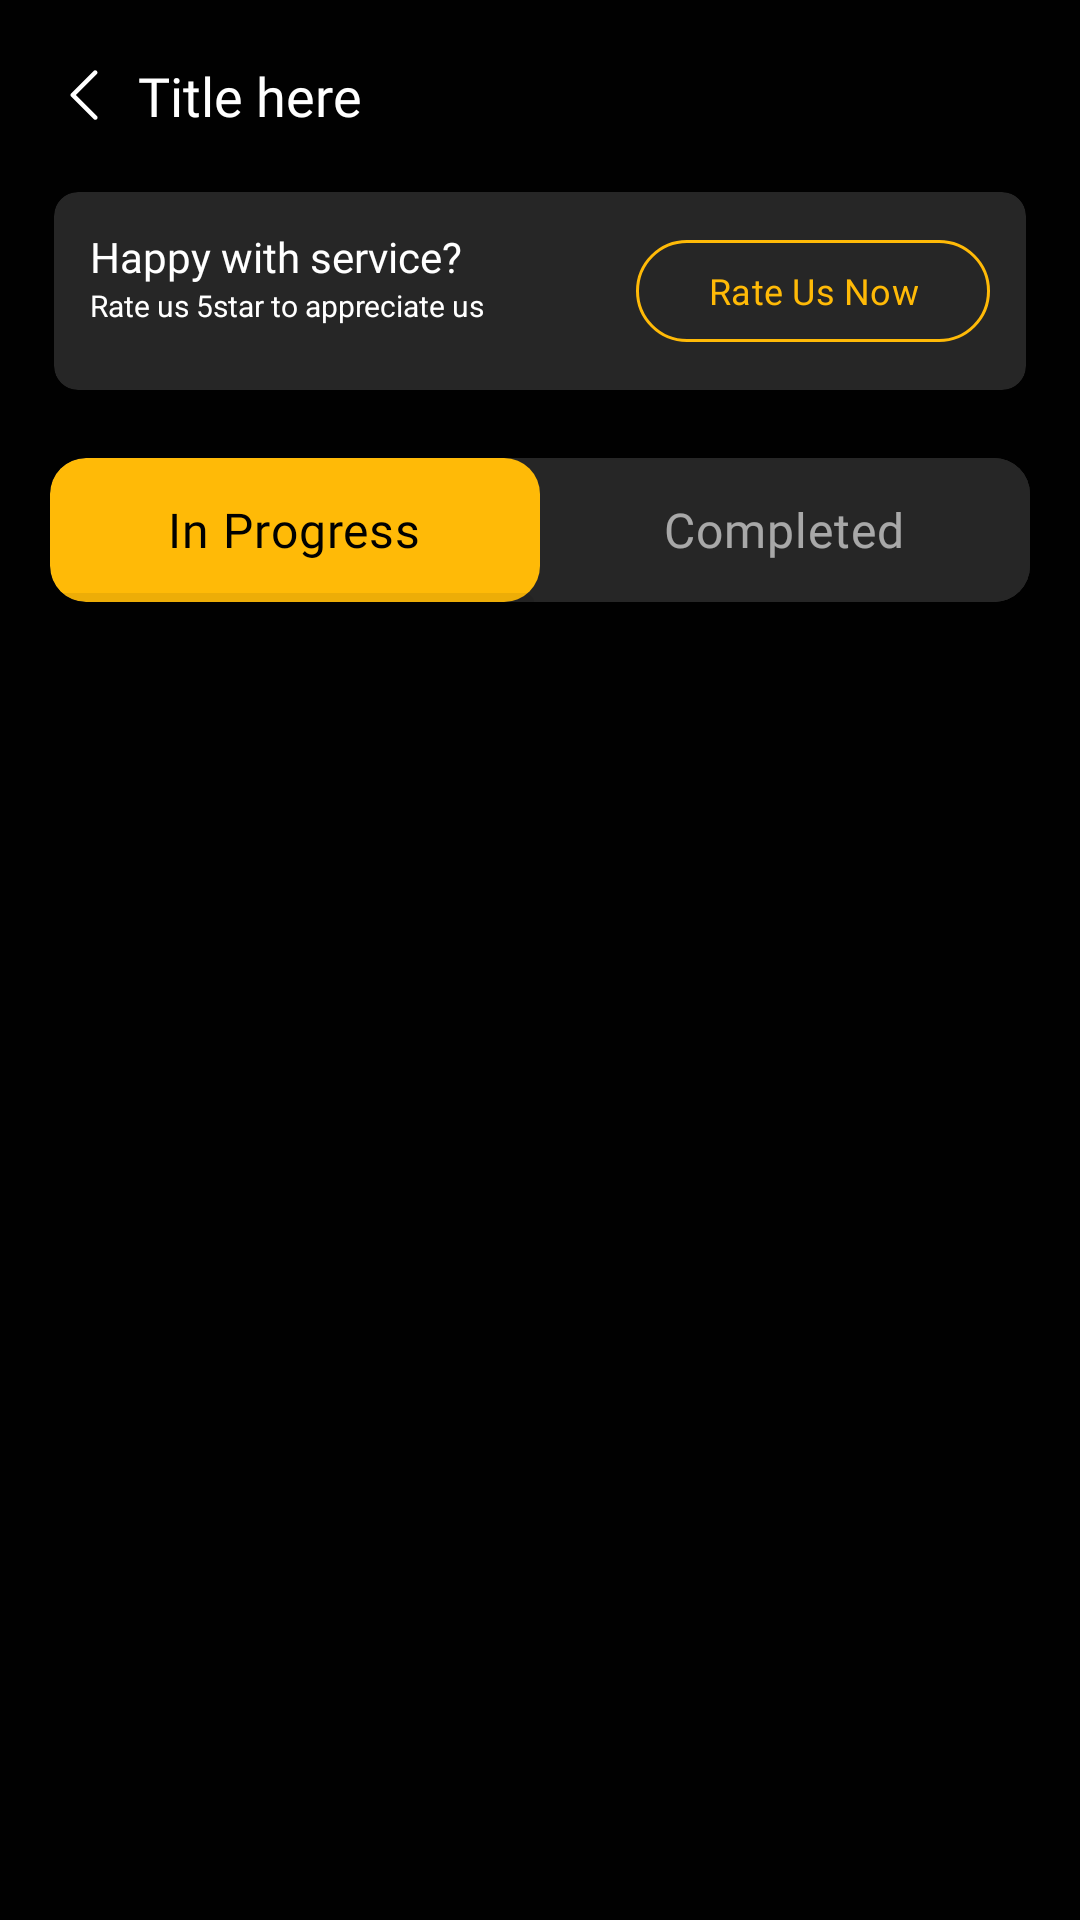

Screen size 1080 x 1920. Icon name, then its center in pixels as (x,y):
back: (84,95)
